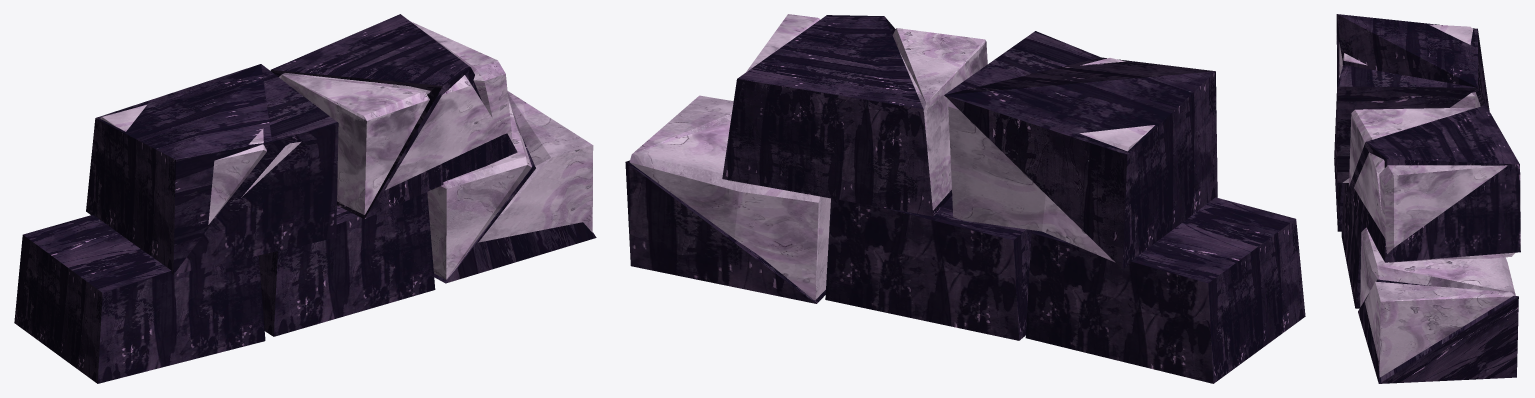
The model's file is str-ruins-05-art.glb.
3 views of the same model, side by side, from view 1: azimuth 30°, elevation 25°; view 2: azimuth 150°, elevation 25°; view 3: azimuth 270°, elevation 25° (orthographic). The views are drawn at different scales.
Parts seen in each view (by area): view 1: Str_Ruins_05_Art; view 2: Str_Ruins_05_Art; view 3: Str_Ruins_05_Art.
Part boxes in pixels (x1=…): Str_Ruins_05_Art: x1=14, y1=14, x2=596, y2=383; Str_Ruins_05_Art: x1=625, y1=14, x2=1305, y2=383; Str_Ruins_05_Art: x1=1334, y1=14, x2=1520, y2=383.
Size of what is drawn, in the model's own units: 3.26 by 1.22 by 1.14.
2 materials, 2 textured.
